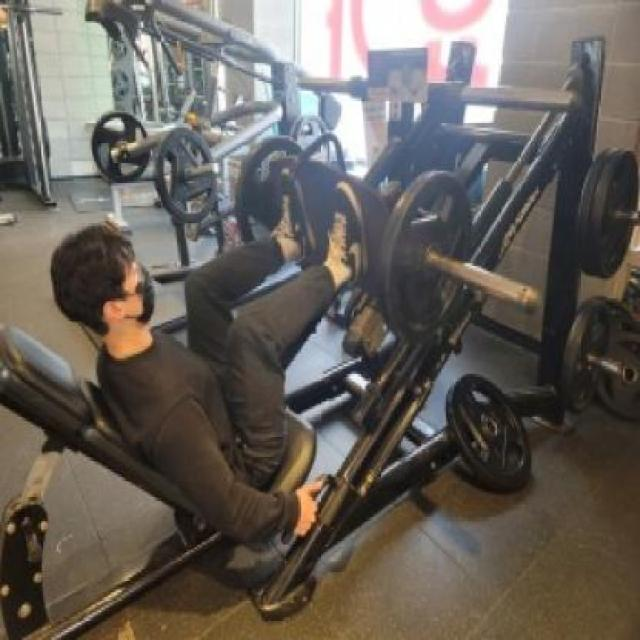leg press: (0, 1, 609, 640)
